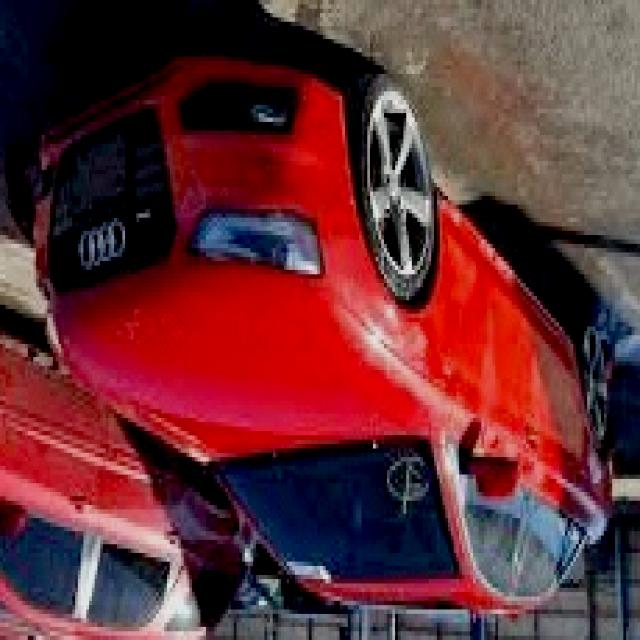red: (11, 30, 615, 624)
